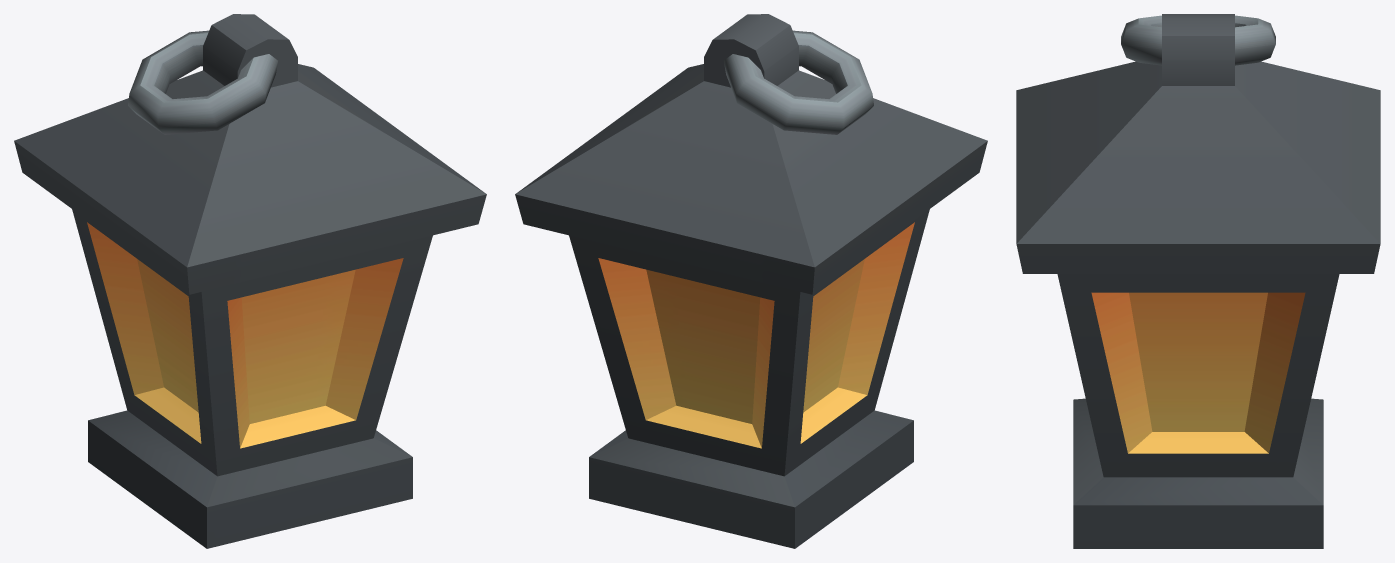
The model's file is lantern-kay-lousberg_CtHBJ1ufeW.glb.
3 renders of one model, left to right at view 1: azimuth 30°, elevation 25°; view 2: azimuth 150°, elevation 25°; view 3: azimuth 270°, elevation 25°, orthographic. The views are drawn at different scales.
Parts seen in each view (by area): view 1: lantern_standing; view 2: lantern_standing; view 3: lantern_standing.
Part boxes in pixels (<box>): lantern_standing: <box>14,14,486,548</box>; lantern_standing: <box>515,14,987,548</box>; lantern_standing: <box>1016,14,1380,548</box>.
Size of the model in its own units: 0.64 by 0.9252 by 0.64.
Materials: 1 (1 with a texture image).
